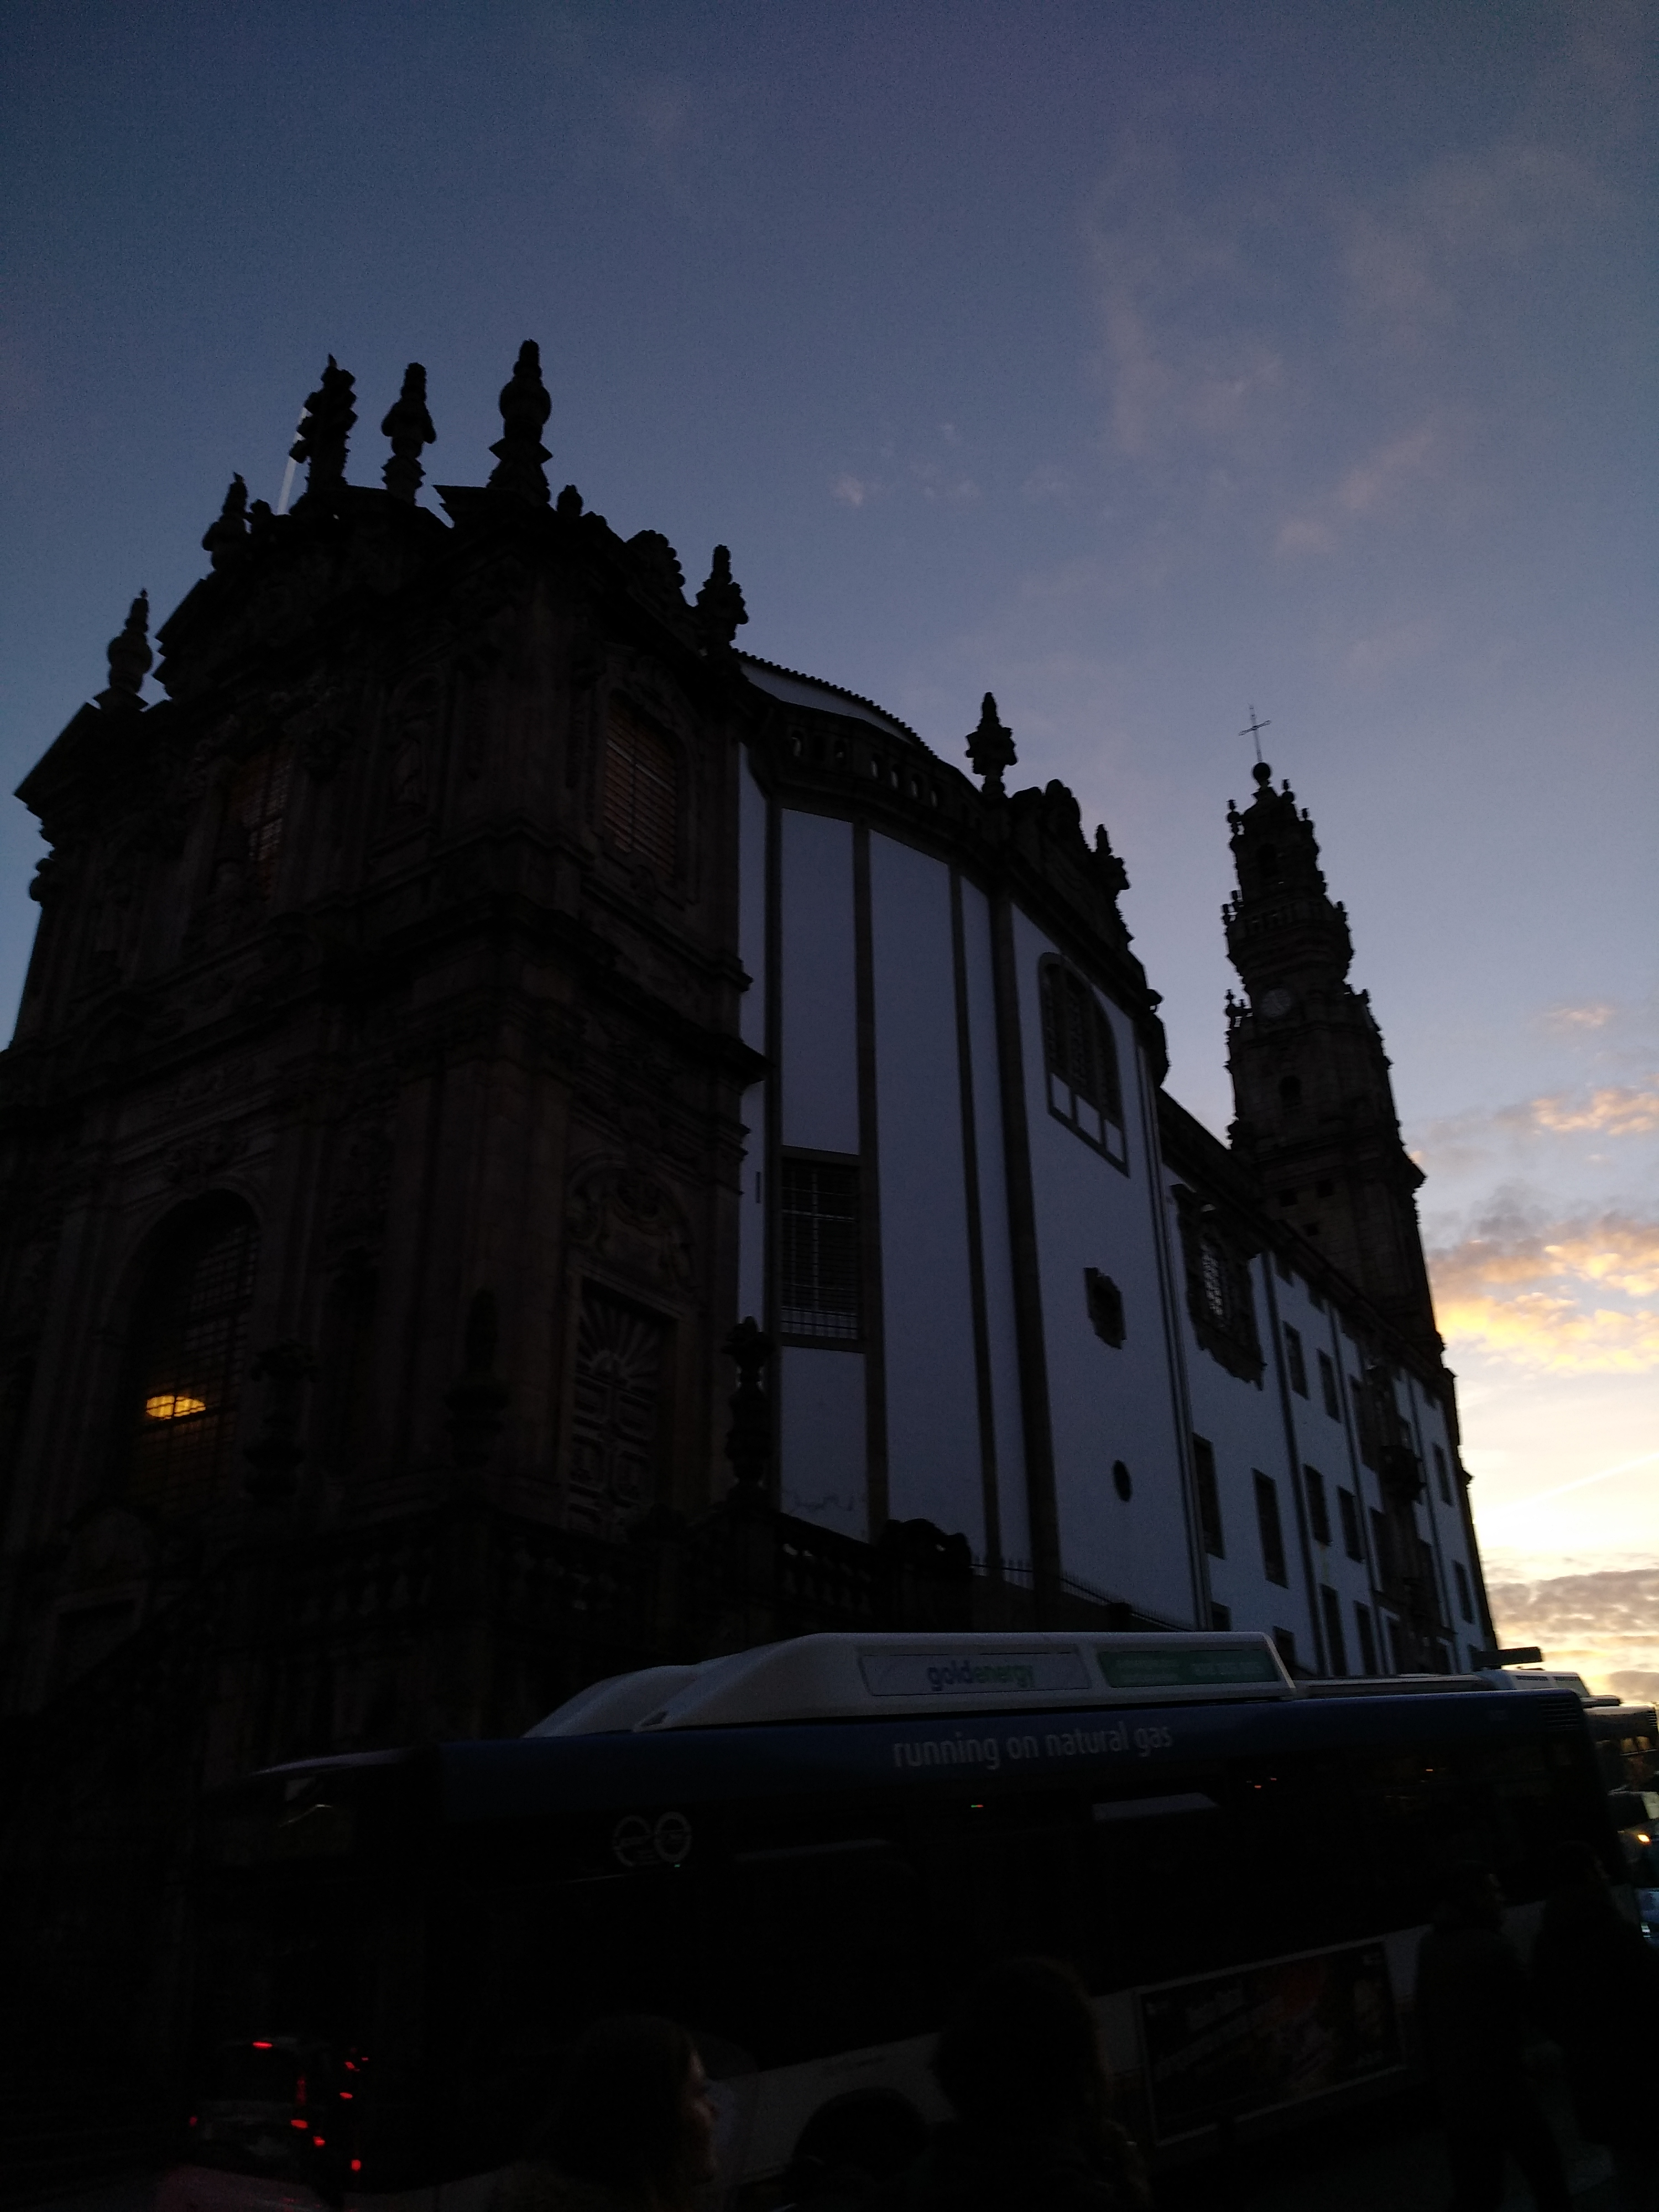clerigos: (293, 597, 1159, 716)
